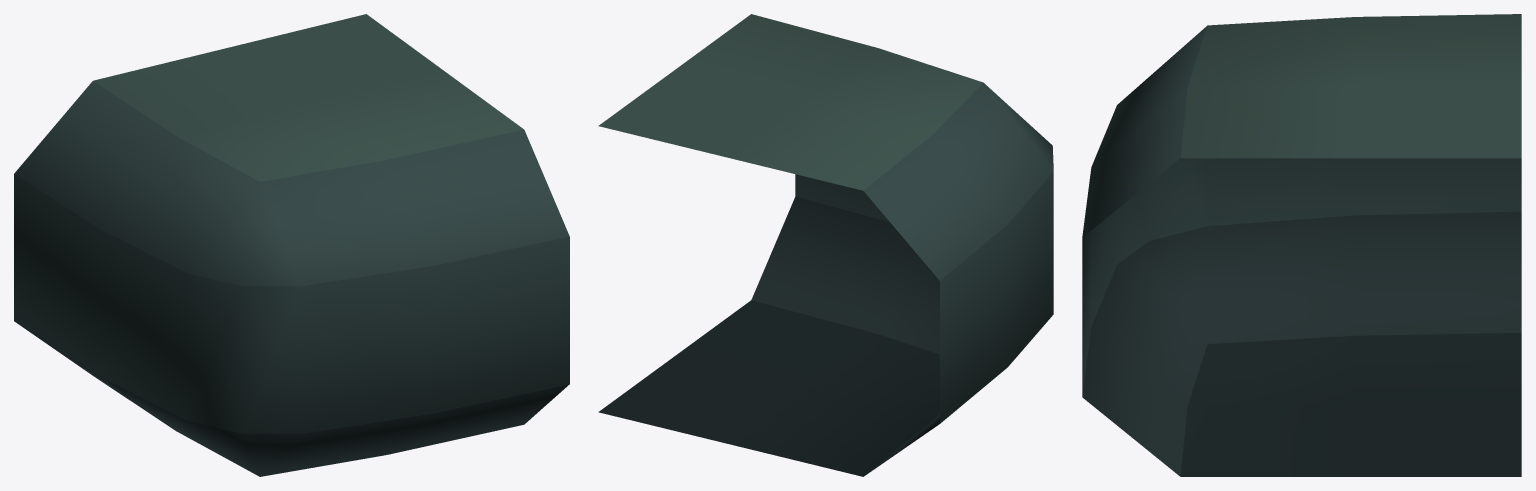
The model's file is grass_top_1x1_corner_front_left.fbx.
3 renders of one model, left to right at view 1: azimuth 30°, elevation 25°; view 2: azimuth 150°, elevation 25°; view 3: azimuth 270°, elevation 25°, orthographic. The views are drawn at different scales.
Parts seen in each view (by area): view 1: grass_top_1x1_corner_front_left; view 2: grass_top_1x1_corner_front_left; view 3: grass_top_1x1_corner_front_left.
Boxes of the visible parts, x1=… form: grass_top_1x1_corner_front_left: x1=14, y1=14, x2=569, y2=476; grass_top_1x1_corner_front_left: x1=598, y1=14, x2=1053, y2=476; grass_top_1x1_corner_front_left: x1=1082, y1=14, x2=1521, y2=476.
Size of the model in its own units: 68.72 by 55 by 68.72.
